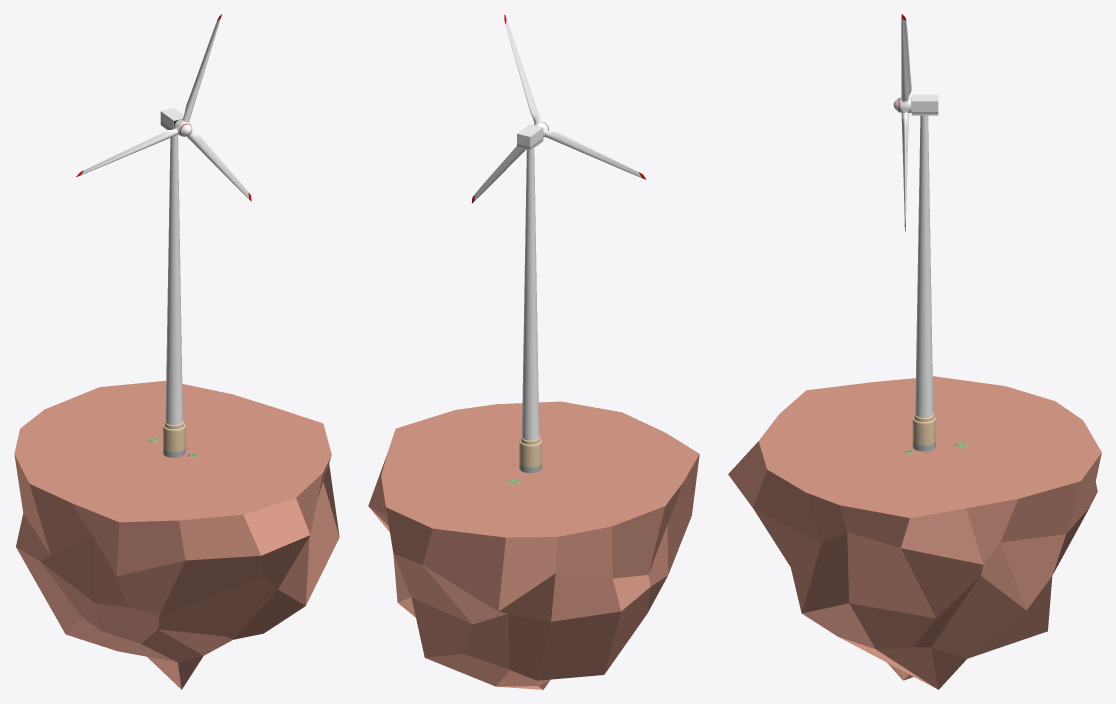
File: EolicOBJ.obj
The picture shows the model from 3 angles, left to right: view 1: azimuth 30°, elevation 25°; view 2: azimuth 150°, elevation 25°; view 3: azimuth 270°, elevation 25°; orthographic projection. The views are drawn at different scales.
Parts seen in each view (by area): view 1: Roundcube.001, Cylinder.003, Cylinder.002_Cylinder, Cylinder.001_Cylinder, Cylinder; view 2: Roundcube.001, Cylinder.003, Cylinder.002_Cylinder, Cylinder, Cube_Cube.002, Cylinder.001_Cylinder; view 3: Roundcube.001, Cylinder.003, Cylinder, Cube_Cube.002.
Boxes of the visible parts, <box> form: Roundcube.001: <box>14,380,339,689</box>; Cylinder.003: <box>163,135,185,457</box>; Cylinder.002_Cylinder: <box>76,128,178,176</box>; Cylinder.001_Cylinder: <box>187,132,251,201</box>; Cylinder: <box>182,14,221,122</box>; Roundcube.001: <box>368,401,699,689</box>; Cylinder.003: <box>519,148,541,473</box>; Cylinder.002_Cylinder: <box>545,130,646,179</box>; Cylinder: <box>504,14,540,124</box>; Cube_Cube.002: <box>517,124,543,150</box>; Cylinder.001_Cylinder: <box>471,146,525,203</box>; Roundcube.001: <box>728,376,1101,689</box>; Cylinder.003: <box>912,115,935,451</box>; Cylinder: <box>901,14,911,101</box>; Cube_Cube.002: <box>911,94,938,115</box>.
Bounding box in the file's own units: 24.75 × 55.86 × 27.57.
2 materials, 2 textured.
